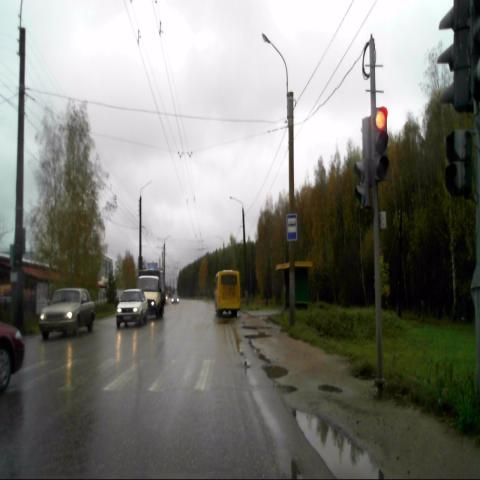5_16: (286, 215, 297, 241)
